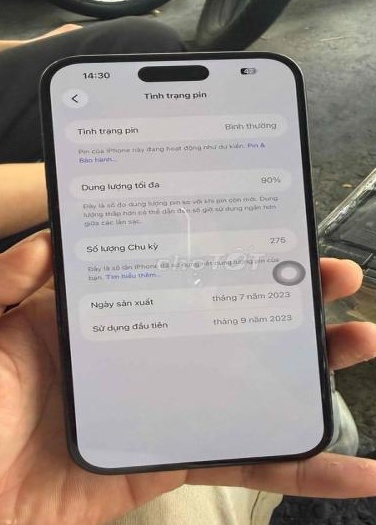scratch: (306, 213, 339, 377)
